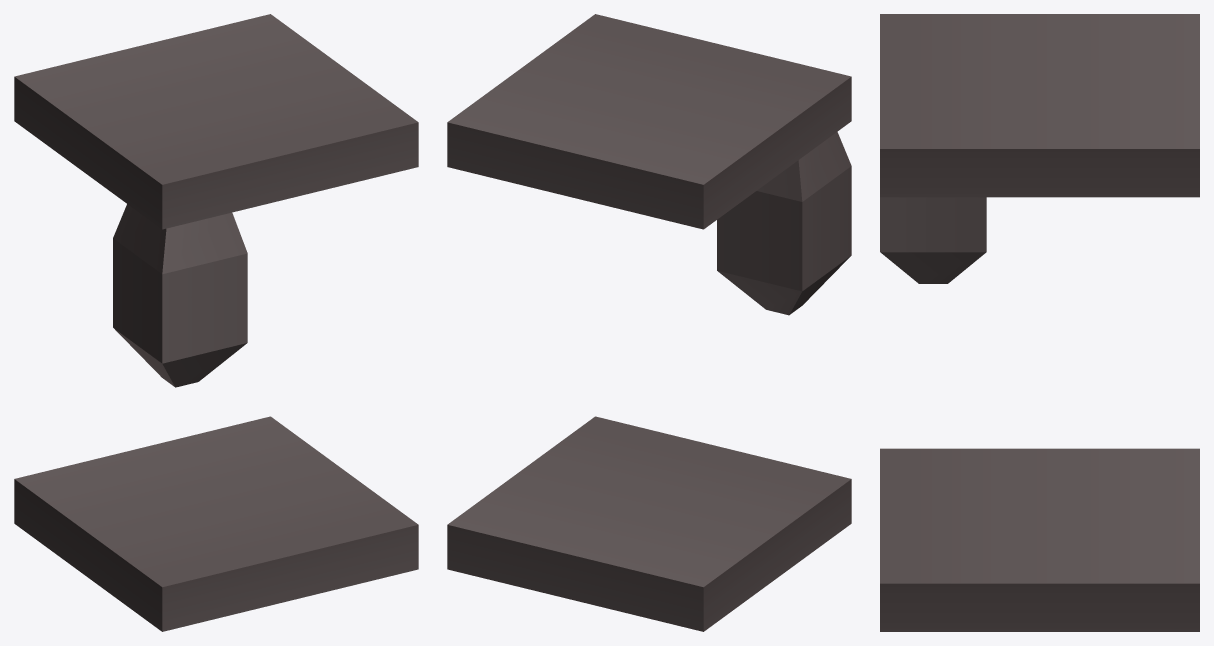
Rendered from Pillar.glb.
3 renders of one model, left to right at view 1: azimuth 30°, elevation 25°; view 2: azimuth 150°, elevation 25°; view 3: azimuth 270°, elevation 25°, orthographic. The views are drawn at different scales.
Parts seen in each view (by area): view 1: Cube.001, Cube.002, Cube; view 2: Cube.001, Cube.002, Cube; view 3: Cube.001, Cube.002, Cube.
Boxes of the visible parts, x1,y1,x2,y2 form: Cube.001: (14, 14, 418, 229); Cube.002: (14, 416, 418, 631); Cube: (113, 204, 247, 387); Cube.001: (447, 14, 851, 229); Cube.002: (447, 416, 851, 631); Cube: (717, 132, 851, 315); Cube.001: (880, 14, 1199, 197); Cube.002: (880, 448, 1199, 631); Cube: (880, 197, 986, 283).
Size of the model in its own units: 6 by 10 by 6.
Materials: 1 (1 with a texture image).
